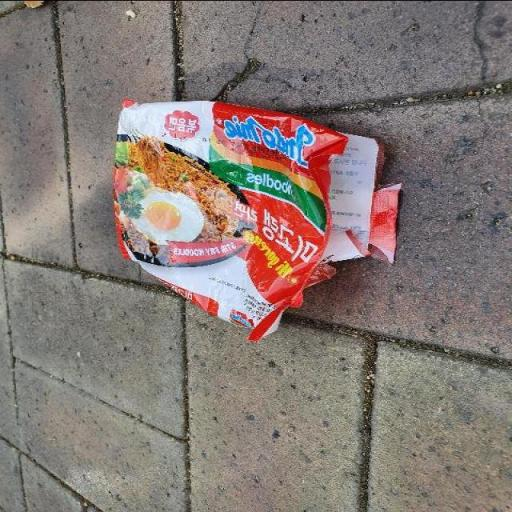plastic-bag: (110, 95, 401, 343)
